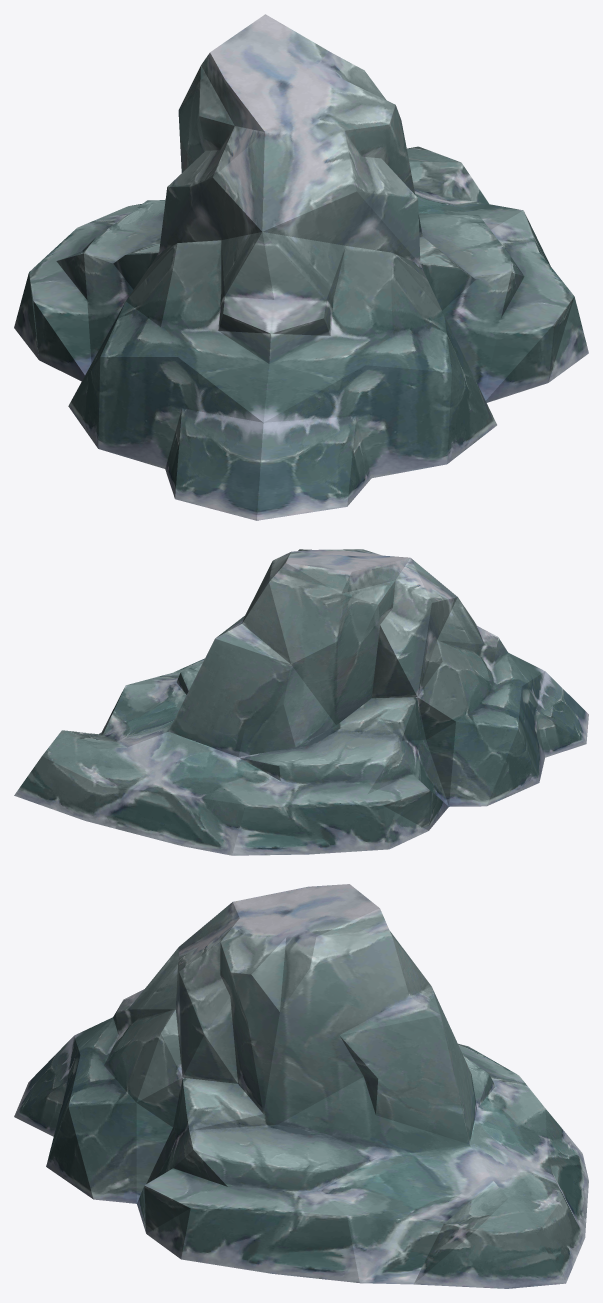
File: map_114_shitou_6.fbx
3 views of the same model, one above another, from view 1: azimuth 30°, elevation 25°; view 2: azimuth 150°, elevation 25°; view 3: azimuth 270°, elevation 25° (orthographic). The views are drawn at different scales.
Parts seen in each view (by area): view 1: map_114_shitou_6; view 2: map_114_shitou_6; view 3: map_114_shitou_6.
Boxes of the visible parts, box(x1,y1,x2,y2) form: map_114_shitou_6: box(14, 14, 588, 520); map_114_shitou_6: box(14, 549, 588, 855); map_114_shitou_6: box(14, 884, 588, 1288).
Bounding box in the file's own units: 4.28 × 2.33 × 4.61.
